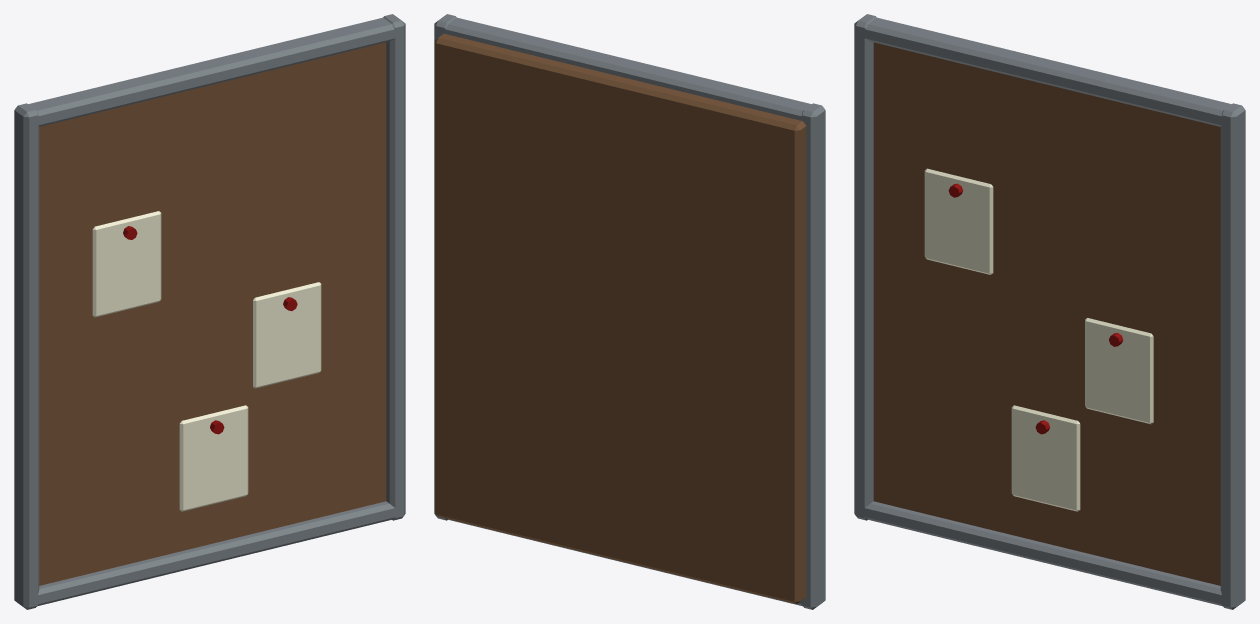
File: NoticeBoard.fbx
The picture shows the model from 3 angles, left to right: view 1: azimuth 30°, elevation 25°; view 2: azimuth 150°, elevation 25°; view 3: azimuth 330°, elevation 25°; orthographic projection.
Parts seen in each view (by area): view 1: NoticeBoard; view 2: NoticeBoard; view 3: NoticeBoard.
Part boxes in pixels (x1=…): NoticeBoard: x1=14, y1=14, x2=405, y2=609; NoticeBoard: x1=434, y1=14, x2=825, y2=609; NoticeBoard: x1=854, y1=14, x2=1245, y2=609.
Bounding box in the file's own units: 83.5 × 104 × 8.9.
Materials: 1 (1 with a texture image).
